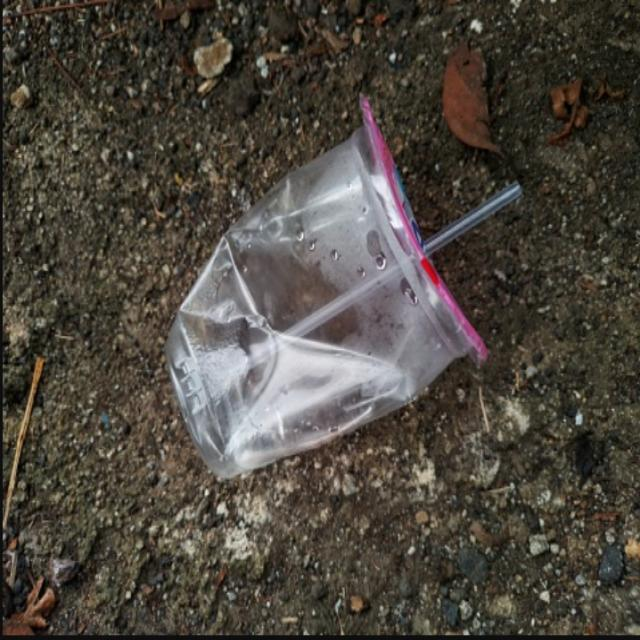GelasPlastik: (163, 92, 506, 480)
